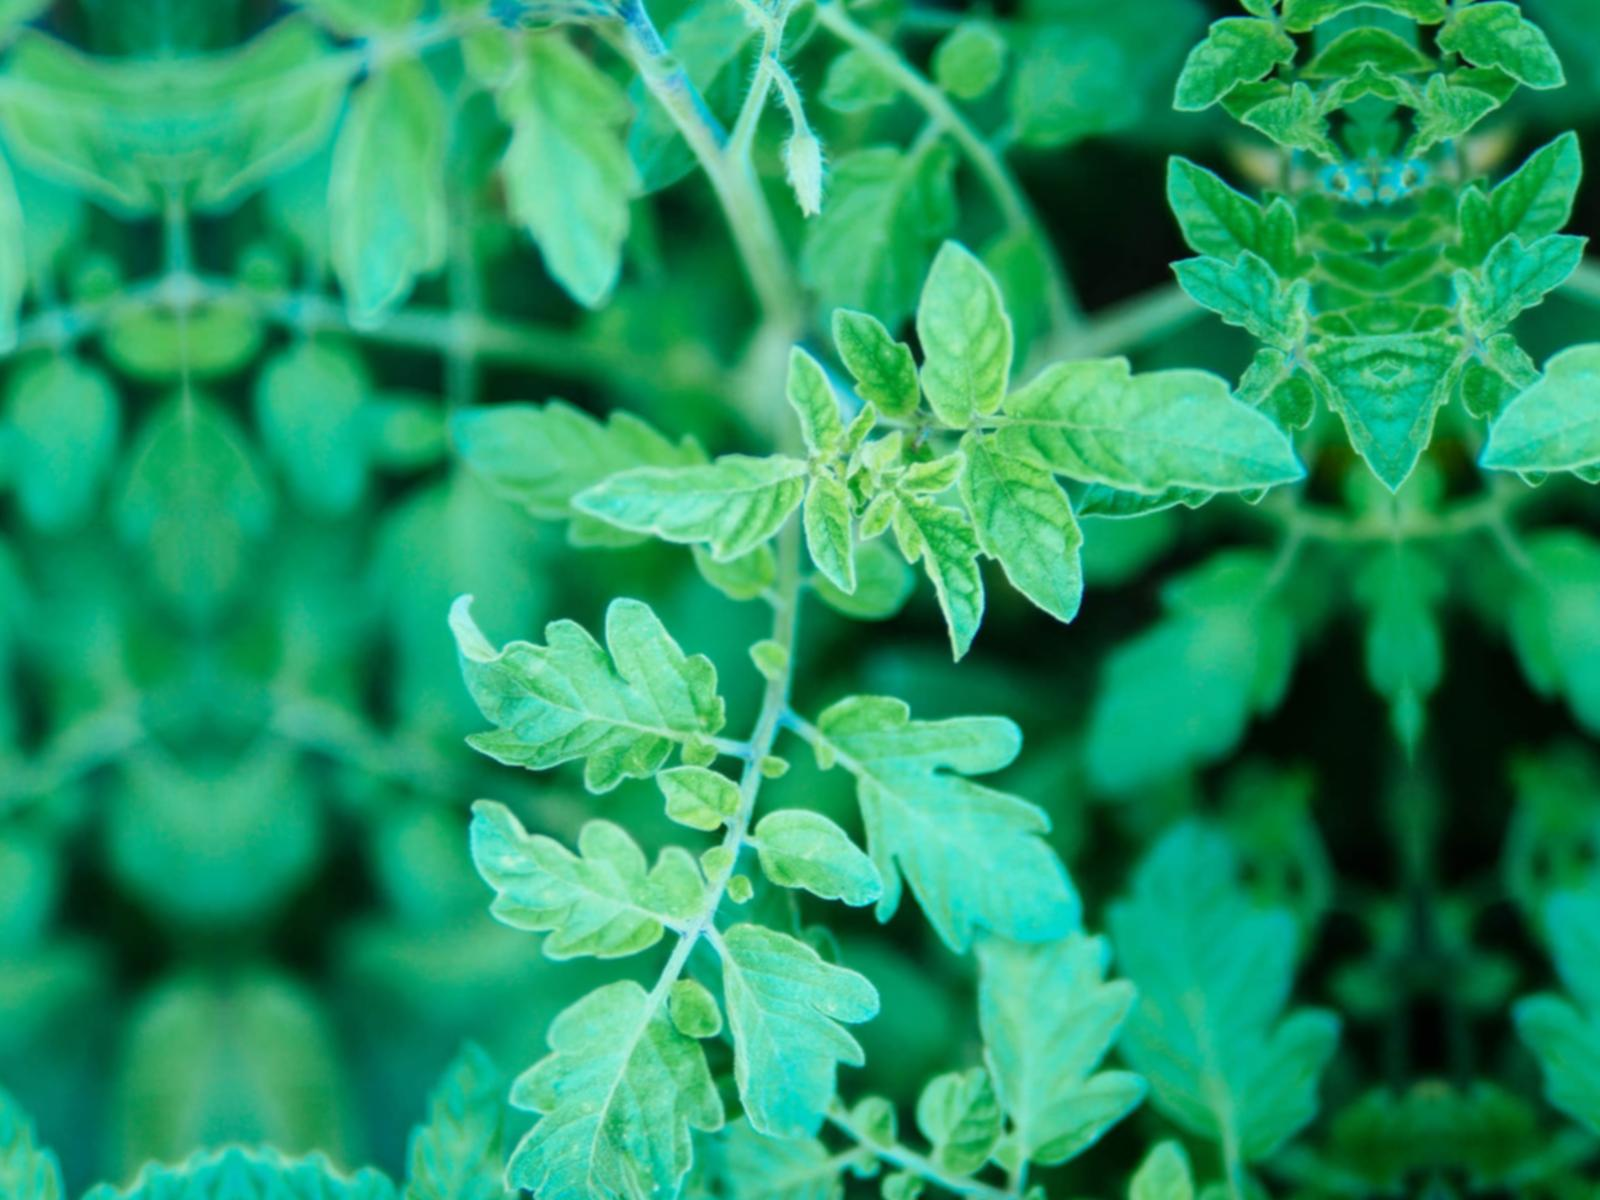Tomato leaf: (786, 677, 1091, 957), (422, 579, 750, 804), (488, 969, 736, 1200), (975, 348, 1313, 498), (421, 803, 729, 959), (699, 911, 891, 1161), (954, 412, 1101, 649), (567, 441, 826, 568), (905, 236, 1017, 430)
